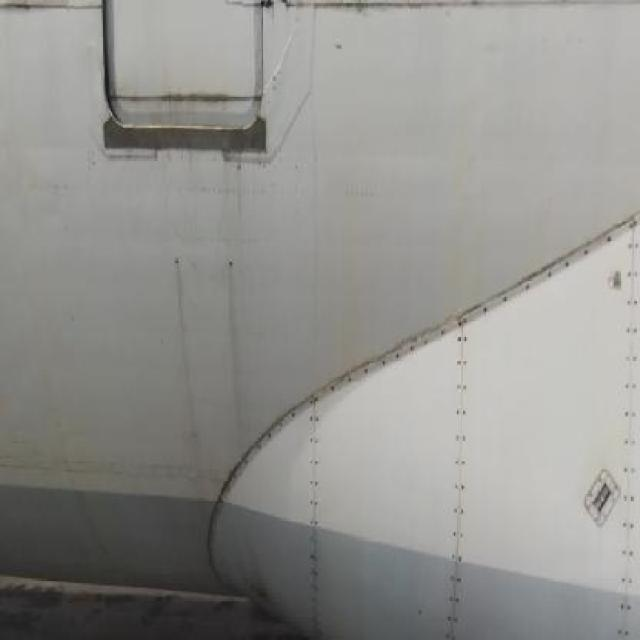Missing-Rivet: (495, 224, 616, 311), (342, 312, 452, 394), (619, 212, 639, 626), (452, 316, 478, 632), (300, 389, 332, 634)
Rust: (168, 259, 201, 430), (222, 253, 247, 427), (148, 82, 242, 116)
